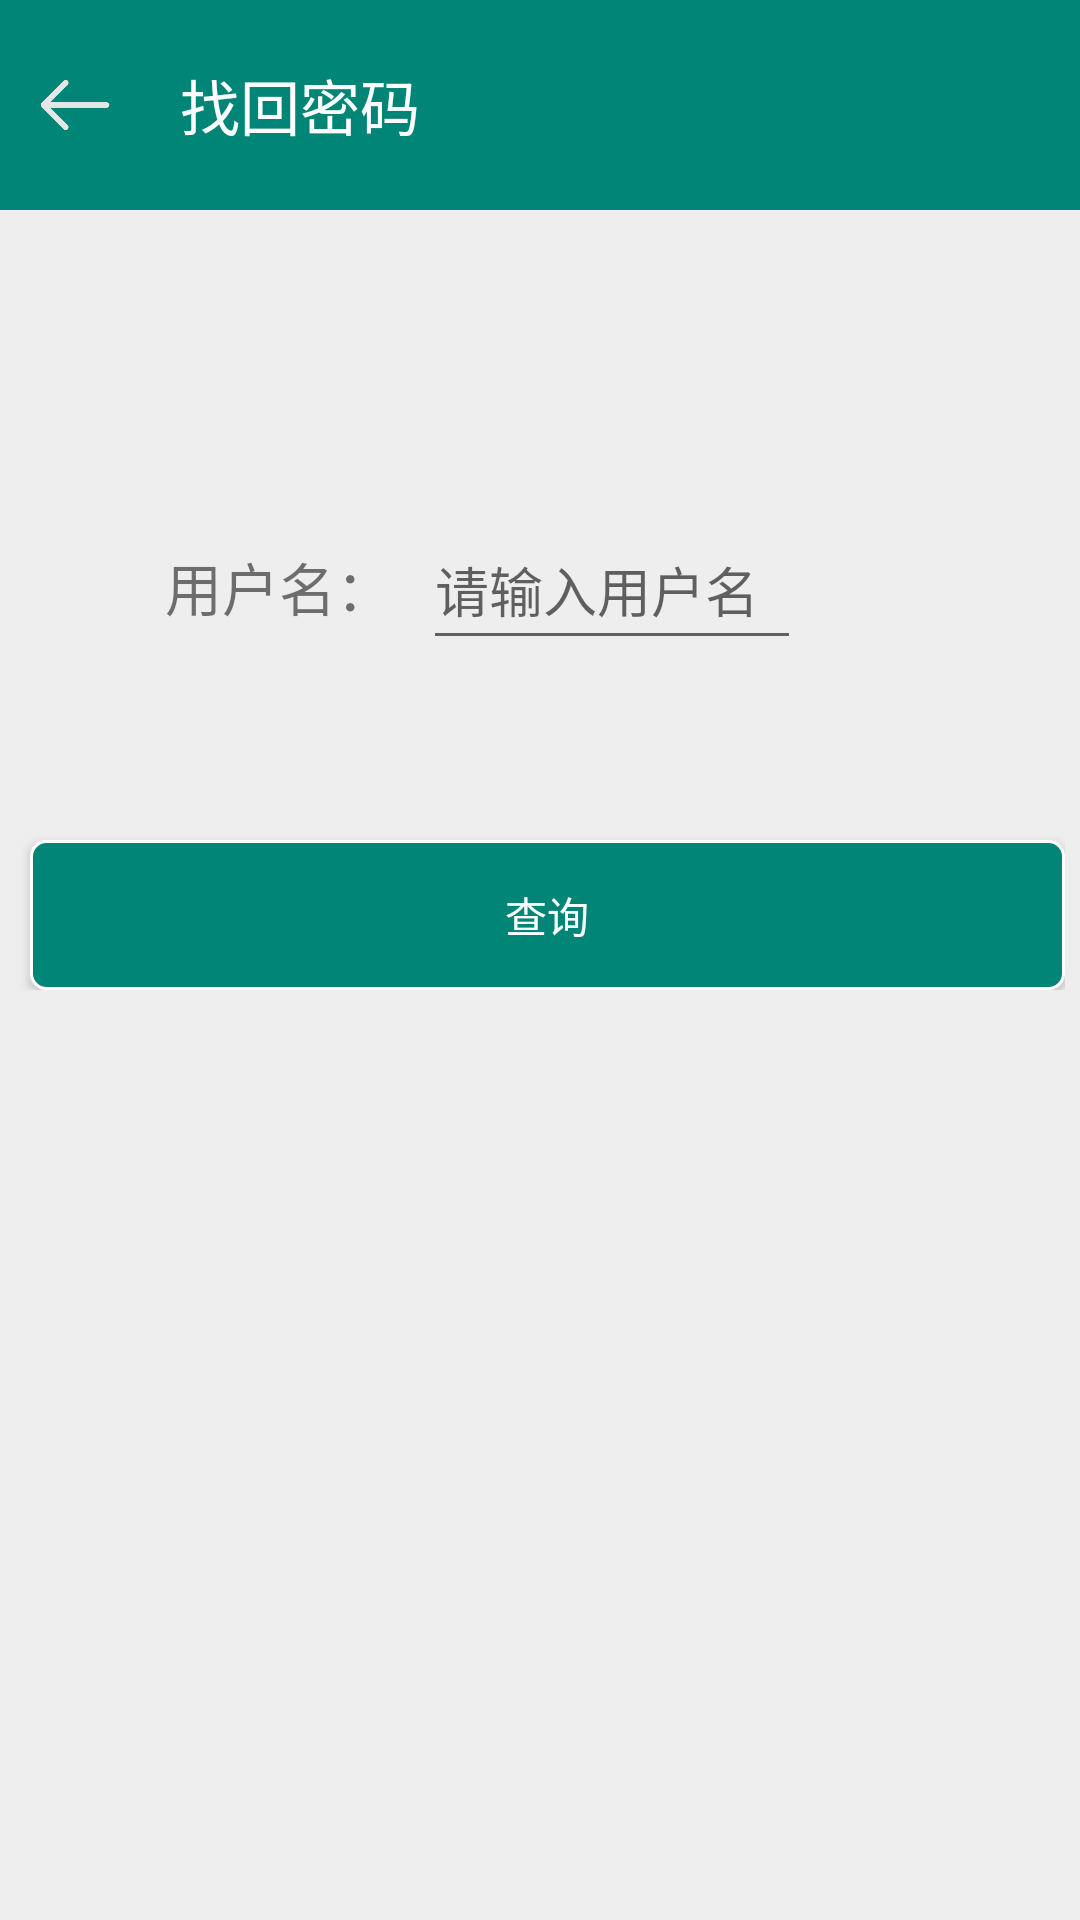

Named icons in this screenshot (1080 x 1920) and their centers, (x=x, y=y):
back: (x=75, y=105)
